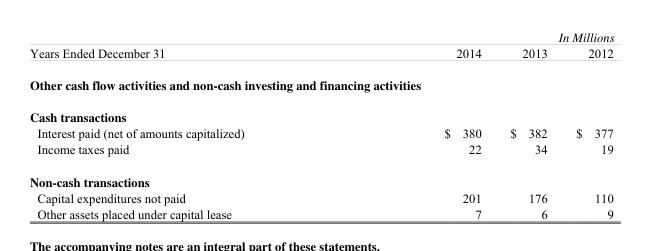table: (28, 28, 613, 220)
table column: (28, 28, 343, 220), (343, 28, 495, 220), (552, 28, 613, 220), (495, 28, 552, 220)
table column header: (28, 28, 613, 67)
table projected row header: (28, 67, 613, 100), (28, 164, 613, 190), (28, 100, 613, 125)
table row: (28, 28, 613, 67), (28, 67, 613, 100), (28, 164, 613, 190), (28, 100, 613, 125), (28, 140, 613, 164), (28, 125, 613, 140), (28, 190, 613, 205), (28, 205, 613, 220)
